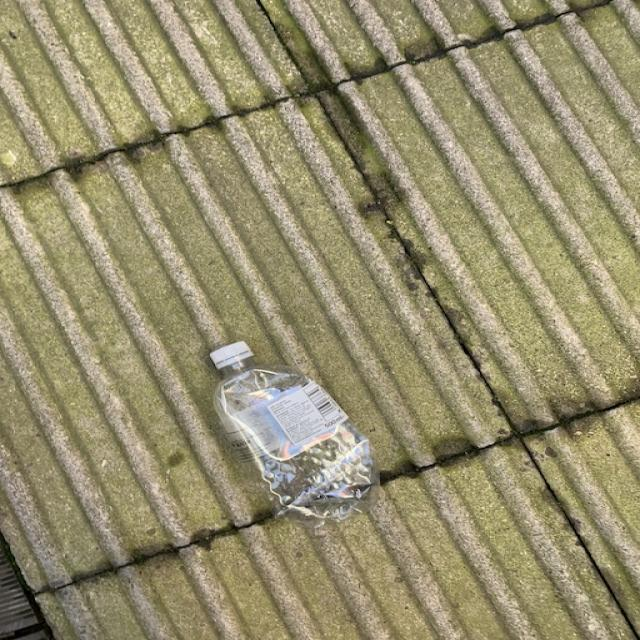Plastic: (210, 342, 380, 528)
